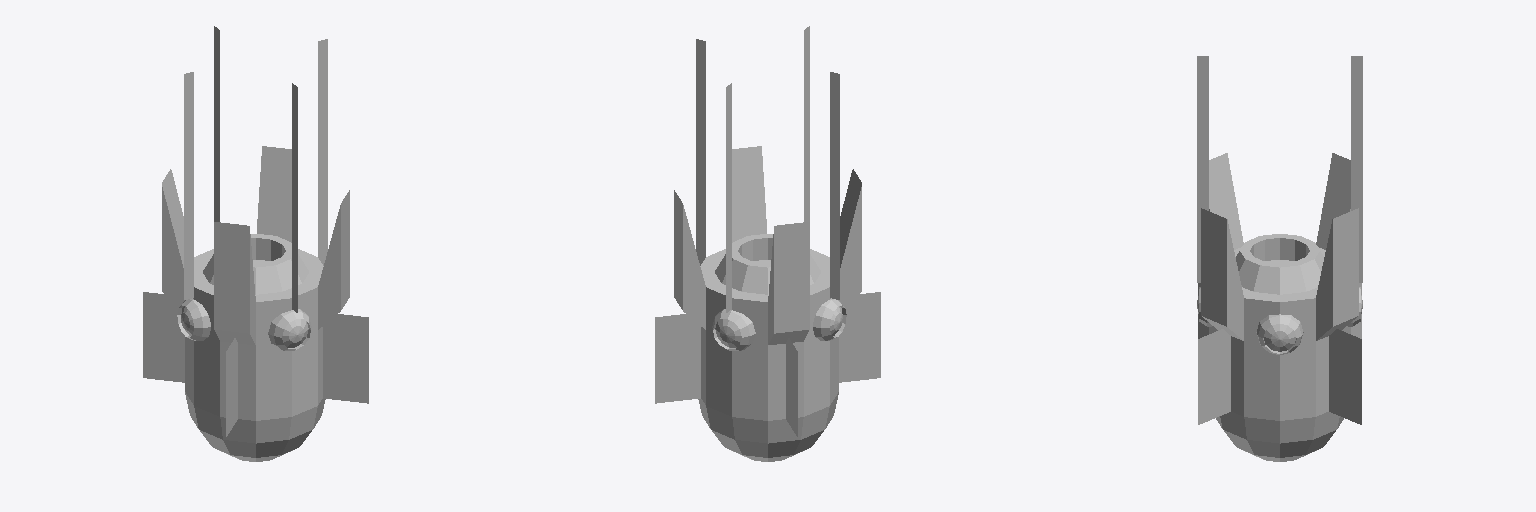
The model's file is bot_prime_head.obj.
3 renders of one model, left to right at view 1: azimuth 30°, elevation 25°; view 2: azimuth 150°, elevation 25°; view 3: azimuth 270°, elevation 25°, orthographic.
Parts seen in each view (by area): view 1: Cylinder; view 2: Cylinder; view 3: Cylinder.
Part boxes in pixels (left/top/right/bottom): Cylinder: left=143, top=26, right=368, bottom=461; Cylinder: left=655, top=26, right=880, bottom=461; Cylinder: left=1197, top=56, right=1362, bottom=461.
Bounding box in the file's own units: 3.5 × 9.25 × 3.5.